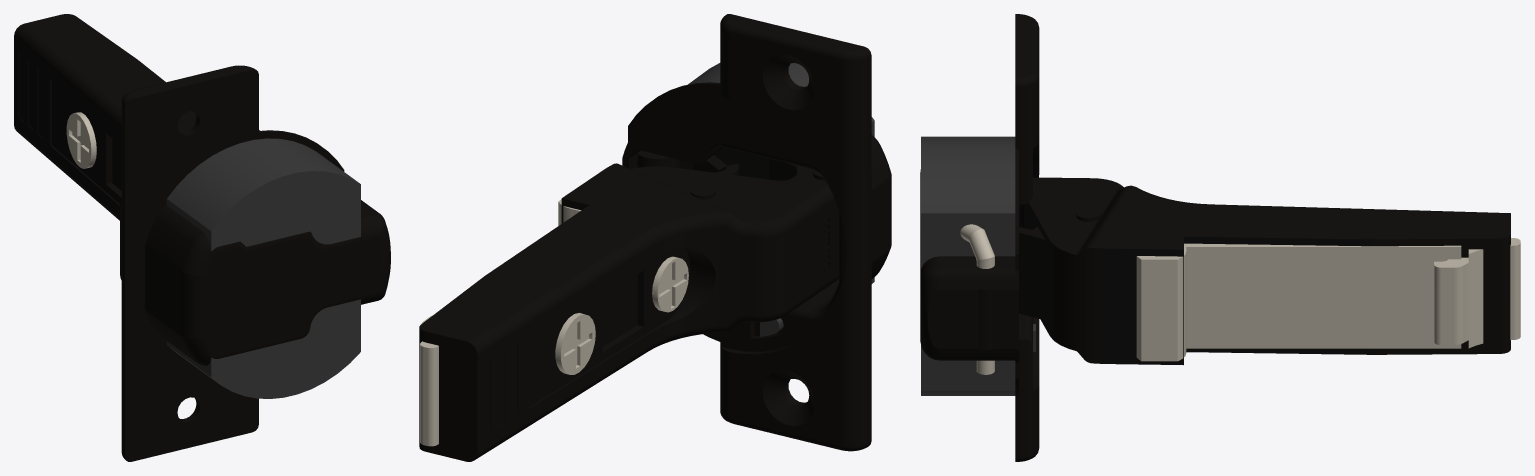
3 views of the same model, side by side, from view 1: azimuth 30°, elevation 25°; view 2: azimuth 150°, elevation 25°; view 3: azimuth 270°, elevation 25° (orthographic). The views are drawn at different scales.
Visible parts, largest first — view 1: bau0015166285-1, bau0016879137-2; view 2: bau0016879137-2, bau0015166285-1, bau0019426112-1, bau0015167707-1, bau0015167363-1; view 3: bau0016879137-2, bau0019426112-1, bau0015166285-1, bau0015167363-1.
Part boxes in pixels (left/top/right/bottom): bau0015166285-1: left=121, top=65, right=390, bottom=461; bau0016879137-2: left=14, top=14, right=259, bottom=279; bau0016879137-2: left=419, top=163, right=838, bottom=461; bau0015166285-1: left=622, top=14, right=891, bottom=451; bau0019426112-1: left=420, top=199, right=581, bottom=446; bau0015167707-1: left=714, top=147, right=806, bottom=180; bau0015167363-1: left=637, top=150, right=739, bottom=175; bau0016879137-2: left=1019, top=177, right=1510, bottom=365; bau0019426112-1: left=1136, top=238, right=1520, bottom=361; bau0015166285-1: left=920, top=14, right=1039, bottom=461; bau0015167363-1: left=978, top=226, right=1045, bottom=350.
Bounding box in the file's own units: 37.08 × 57 × 80.8.
